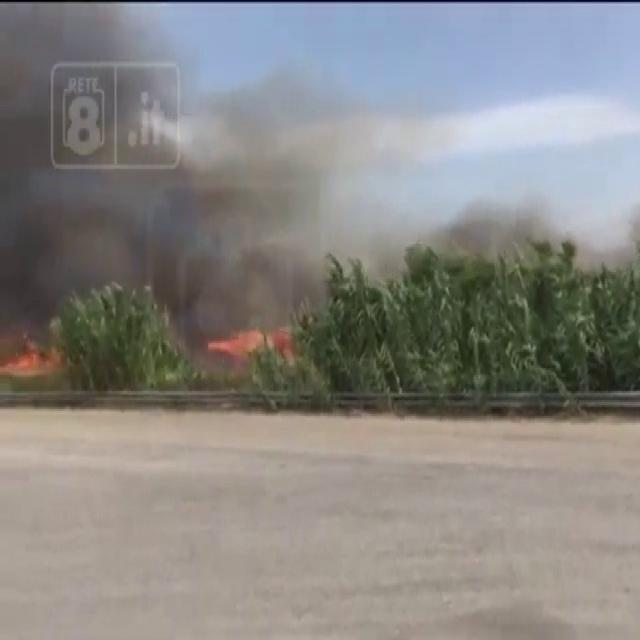Fire: (206, 330, 245, 362), (4, 348, 41, 372)
Smoke: (3, 6, 556, 340)
